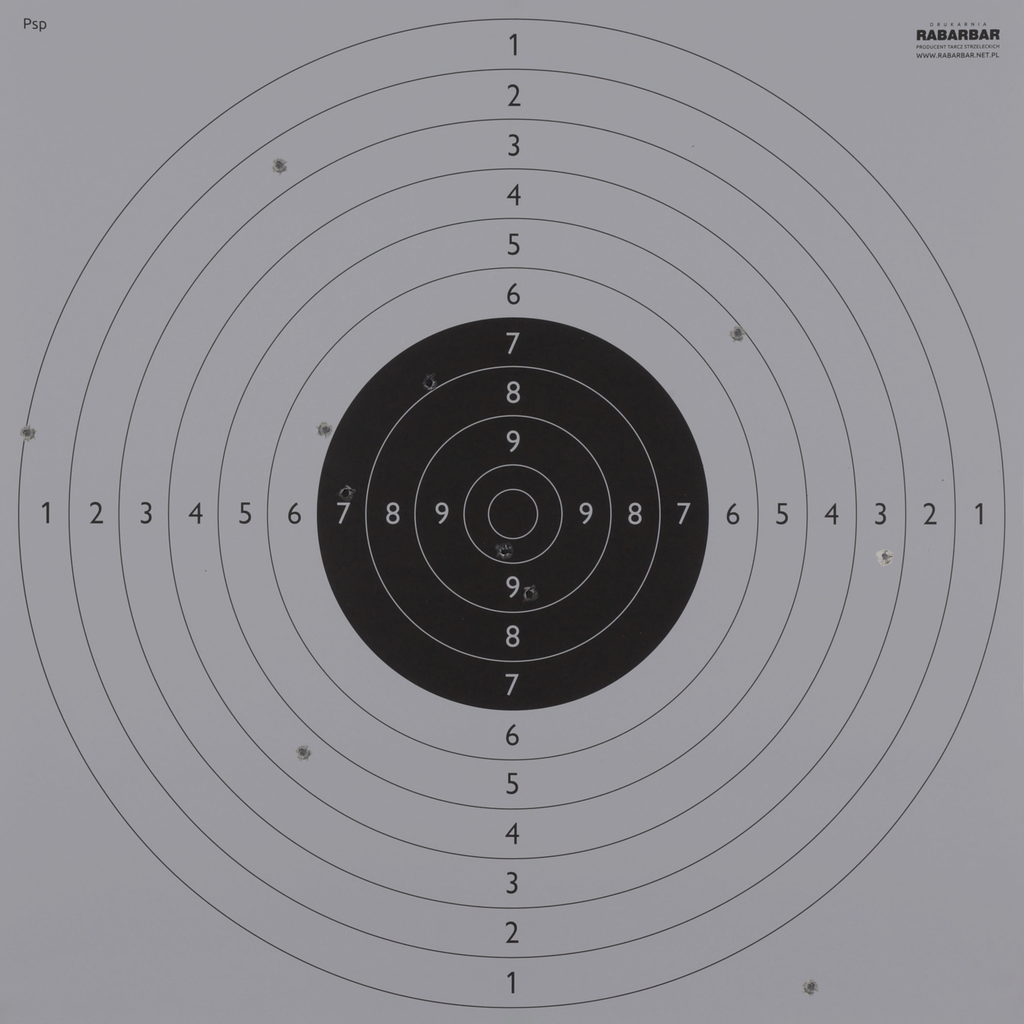0 punktow: (802, 978, 820, 996)
1 punkt: (18, 424, 37, 442)
10 punktow: (495, 542, 513, 561)
2 punkty: (270, 156, 289, 175)
3 punkty: (876, 547, 894, 566)
4 punkty: (294, 743, 312, 762)
5 punktow: (729, 324, 747, 342)
6 punktow: (316, 421, 335, 439)
7 punktow: (337, 484, 355, 502)
8 punktow: (420, 374, 439, 392)
9 punktow: (520, 585, 539, 603)
